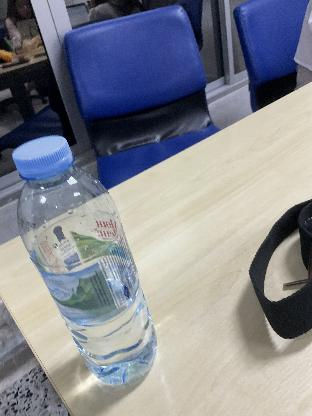Plastic Bottle: (4, 132, 172, 394)
